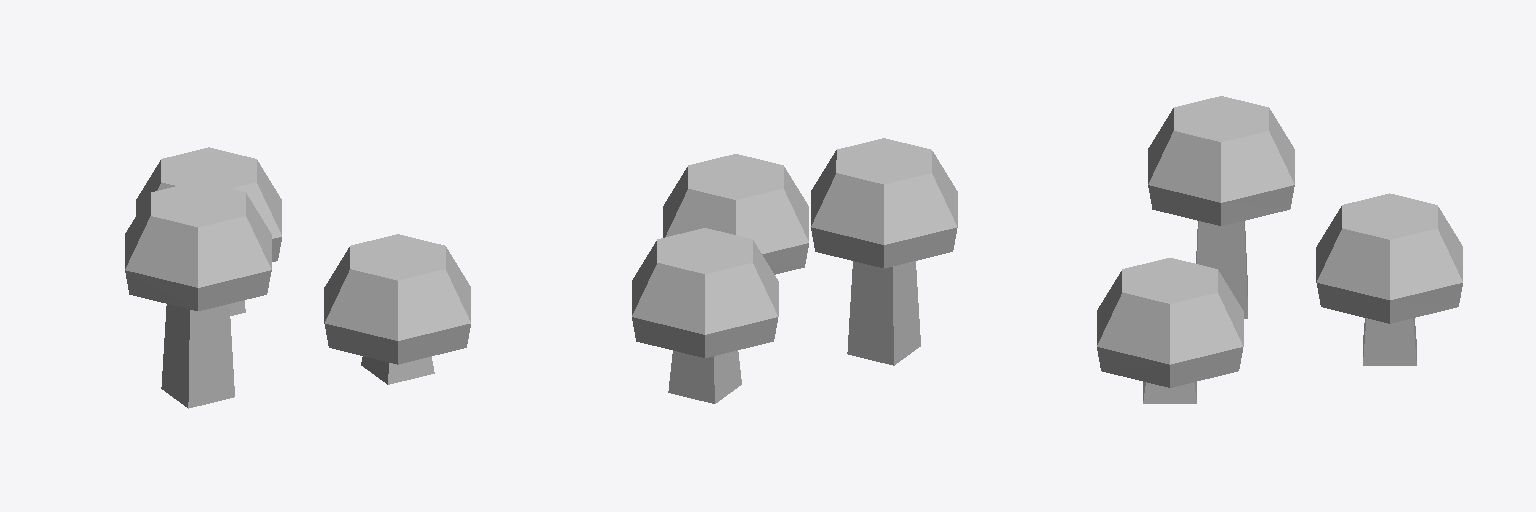
File: Mushroom.obj
3 renders of one model, left to right at view 1: azimuth 30°, elevation 25°; view 2: azimuth 150°, elevation 25°; view 3: azimuth 270°, elevation 25°, orthographic.
Visible parts, largest first — view 1: Mushroom; view 2: Mushroom; view 3: Mushroom.
Boxes of the visible parts, box(x1,y1,x2,y2) form: Mushroom: box(125, 147, 470, 408); Mushroom: box(632, 138, 957, 403); Mushroom: box(1097, 96, 1462, 403).
Bounding box in the file's own units: 20.97 × 11.8 × 20.75.